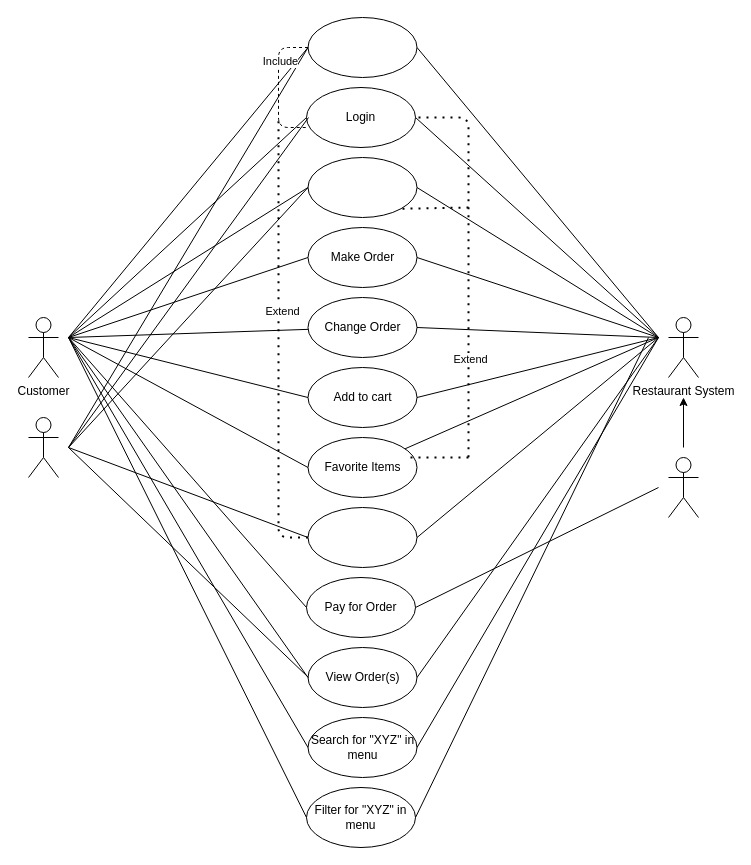
Some shapes in this 751 by 865 pixel diagram are drawn without their labels. The shapes that lost their labels are listed below. From the top down, each one's centre as x and y in pixels, then its label:
point (362, 47): Register User
point (362, 187): Change Account Details
point (43, 447): Staff
point (683, 487): Payment System
point (362, 537): Change Menu
